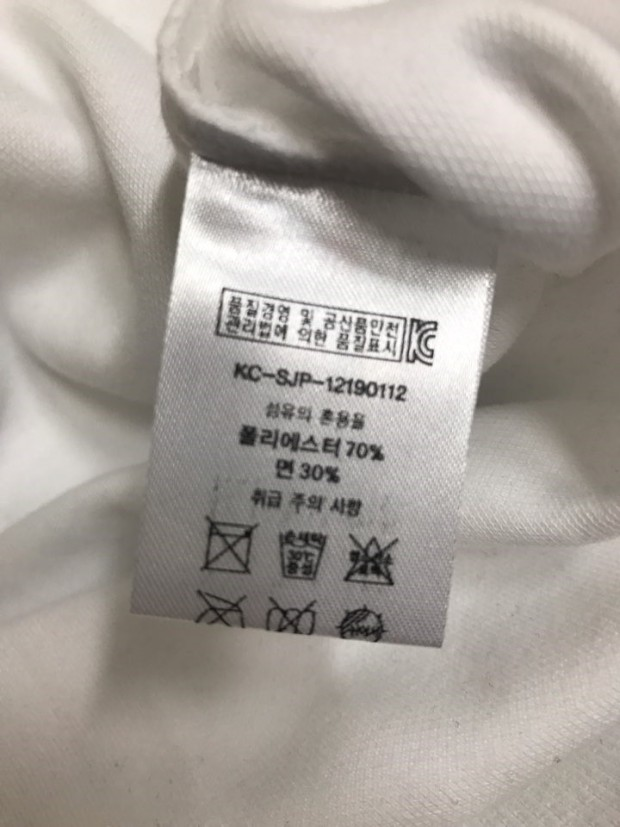KR_flat_dry_in_shade: (333, 602, 390, 644)
KR_hand_wash_30_neutral: (276, 524, 331, 586)
KR_no_bleach: (341, 530, 399, 596)
KR_no_wring: (260, 599, 323, 634)
